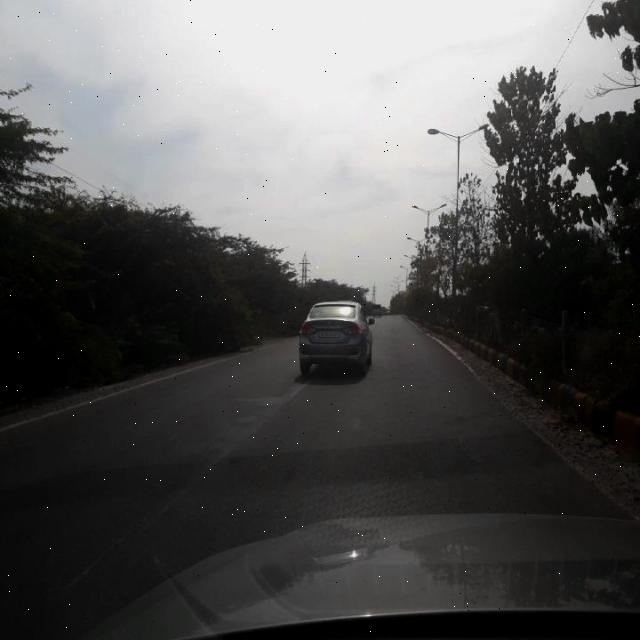D00: (46, 459, 230, 605)
